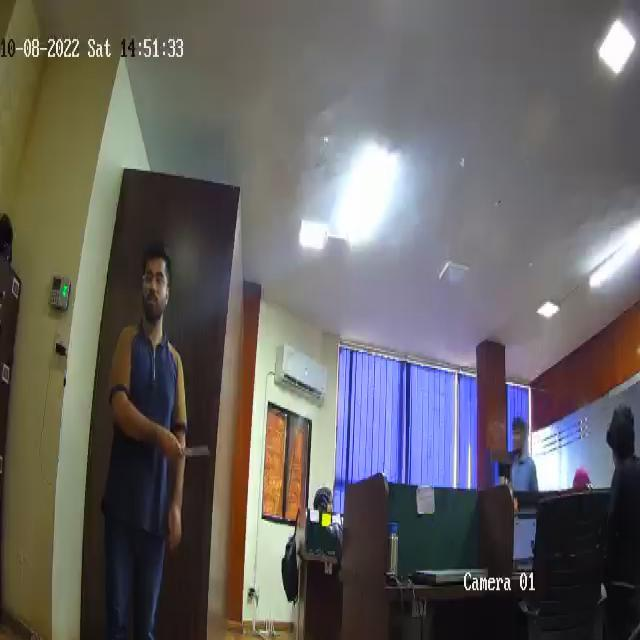Knife: (177, 434, 214, 460)
